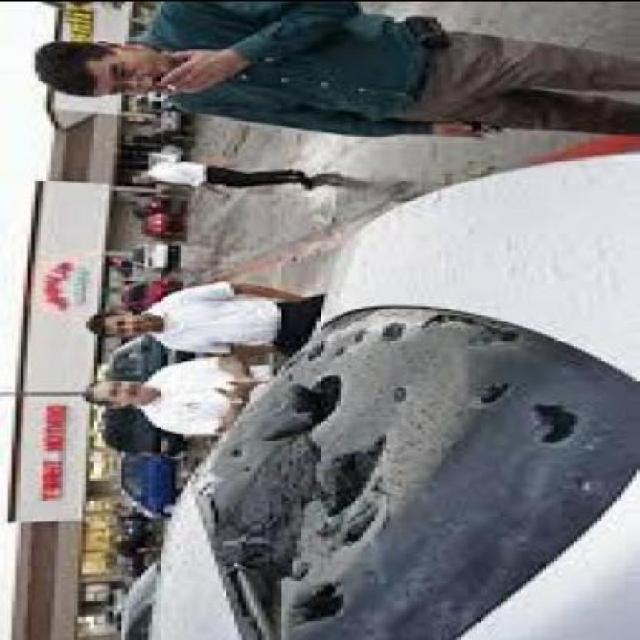damage: (194, 310, 638, 640)
